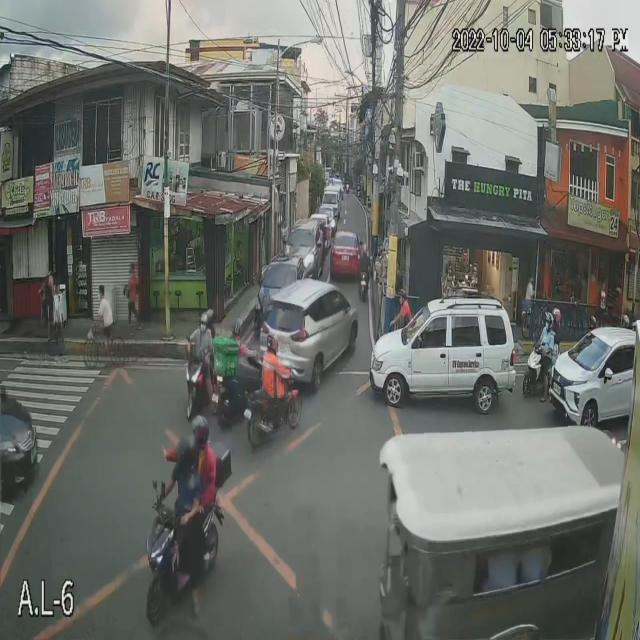Full-Faced: (169, 430, 196, 482), (186, 403, 208, 449), (268, 330, 280, 356), (550, 303, 564, 325)
Half-Faced: (201, 300, 219, 332), (230, 317, 246, 343), (542, 310, 552, 334)
Invalid: (195, 314, 206, 337)
